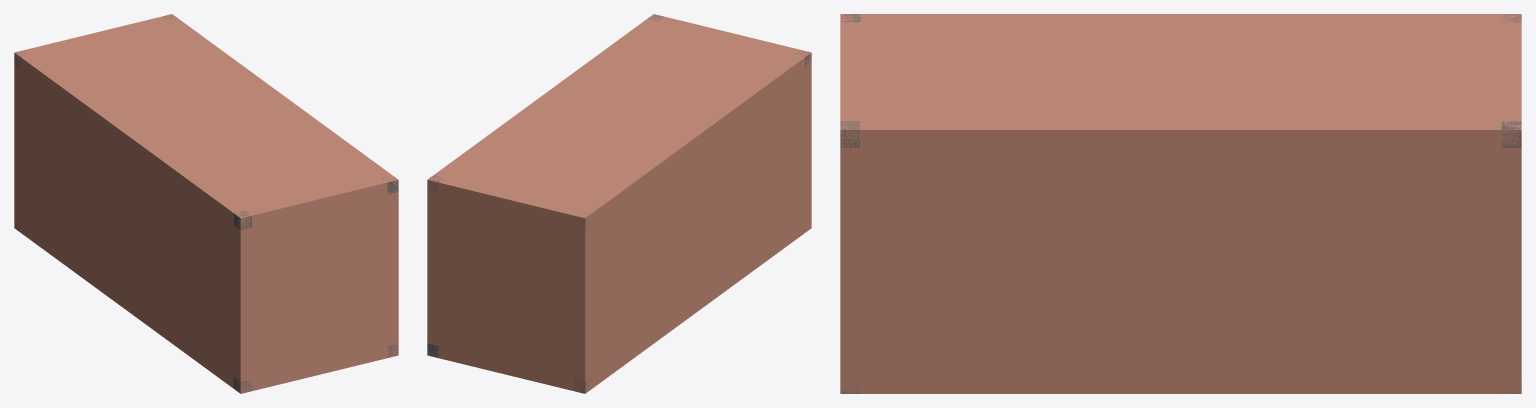
Rendered from Container_20ft_Low.fbx.
The picture shows the model from 3 angles, left to right: view 1: azimuth 30°, elevation 25°; view 2: azimuth 150°, elevation 25°; view 3: azimuth 270°, elevation 25°; orthographic projection. The views are drawn at different scales.
Visible parts, largest first — view 1: Container_20ft_Low; view 2: Container_20ft_Low; view 3: Container_20ft_Low.
Boxes of the visible parts, bbox=[...] form: Container_20ft_Low: bbox=[14, 14, 398, 393]; Container_20ft_Low: bbox=[427, 14, 811, 393]; Container_20ft_Low: bbox=[840, 14, 1521, 393].
Size of the model in its own units: 244 by 259 by 606.
